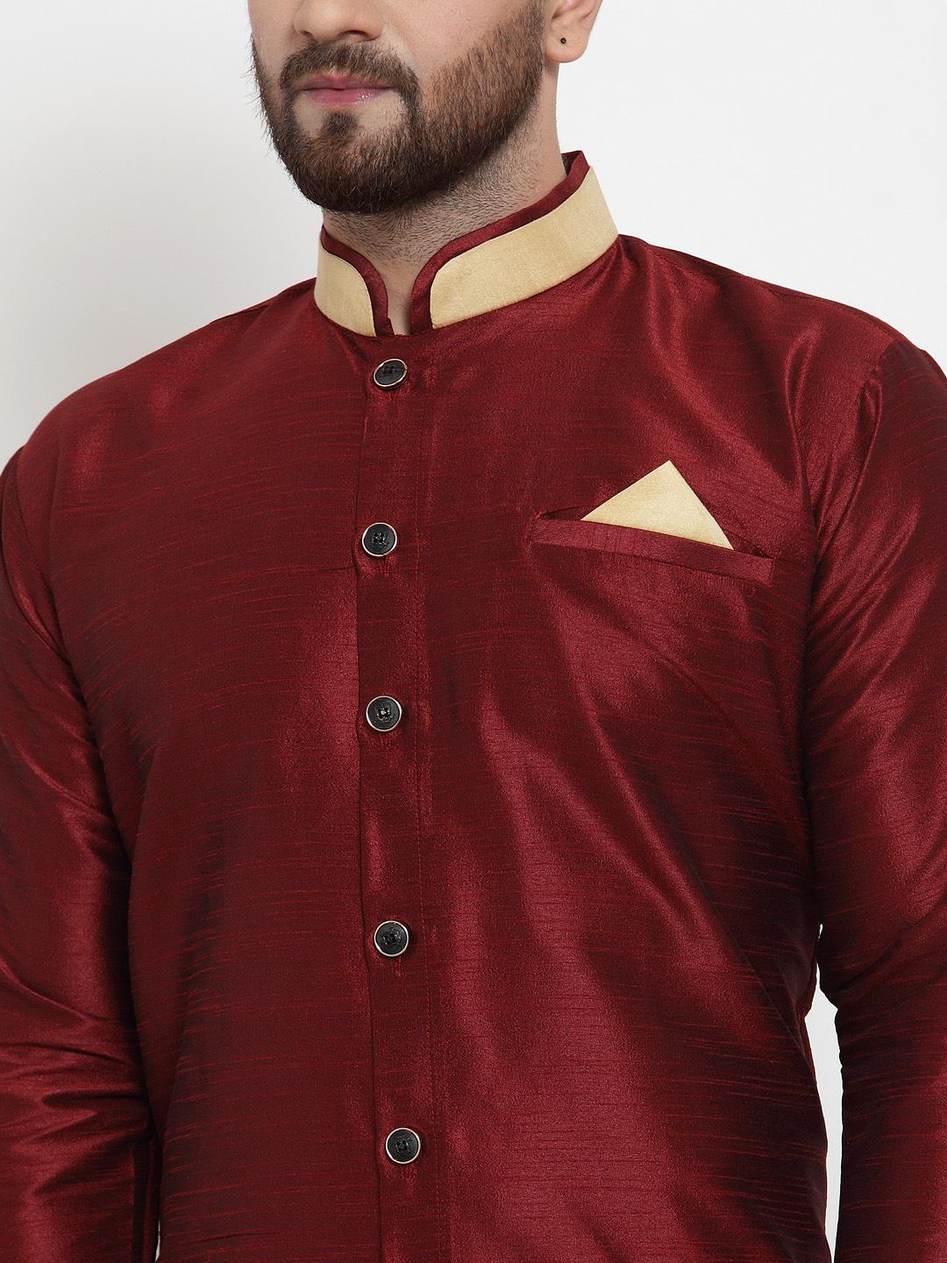Plain Sherwani: (5, 160, 946, 1261)
